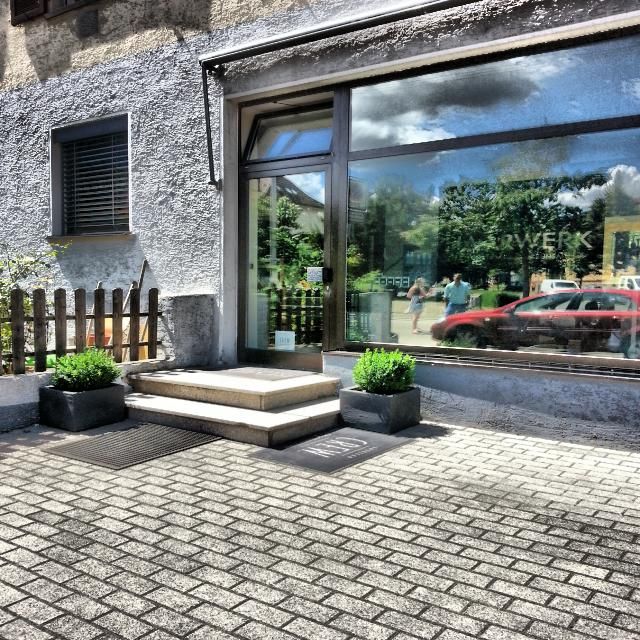escada: (127, 357, 348, 449)
